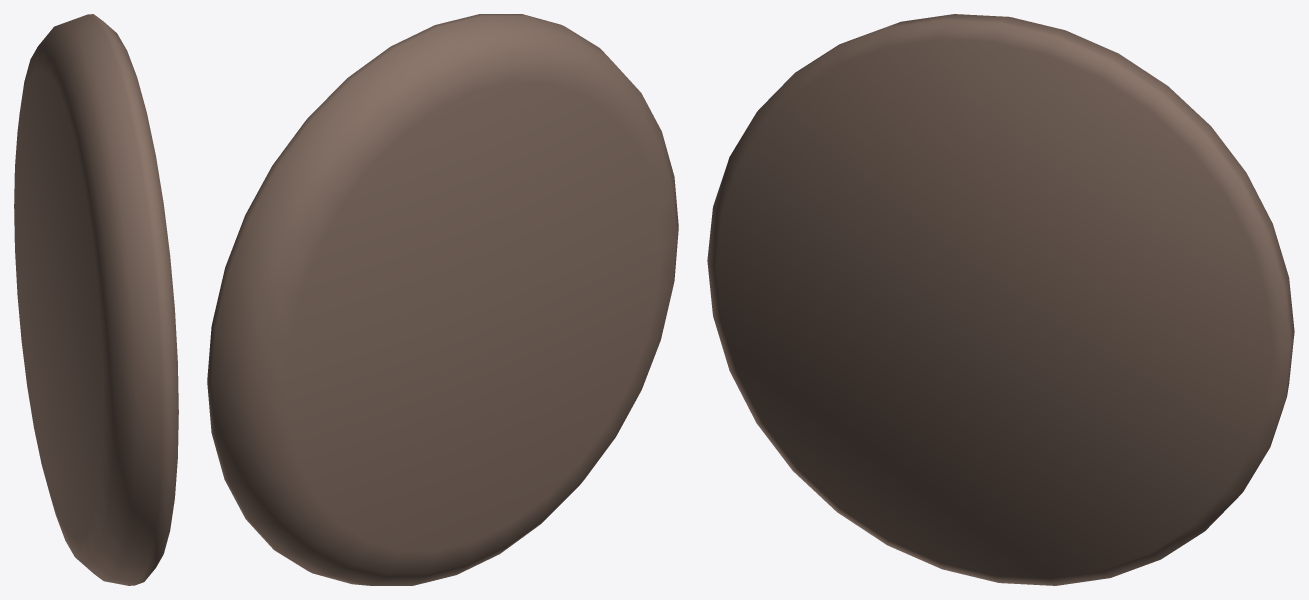
Rendered from Shield.fbx.
3 views of the same model, side by side, from view 1: azimuth 30°, elevation 25°; view 2: azimuth 150°, elevation 25°; view 3: azimuth 270°, elevation 25° (orthographic). The views are drawn at different scales.
Parts seen in each view (by area): view 1: Shield; view 2: Shield; view 3: Shield.
Boxes of the visible parts, box(x1,y1,x2,y2) form: Shield: box(14, 14, 178, 585); Shield: box(207, 14, 678, 585); Shield: box(707, 14, 1294, 585).
Size of the model in its own units: 285 by 695 by 662.
